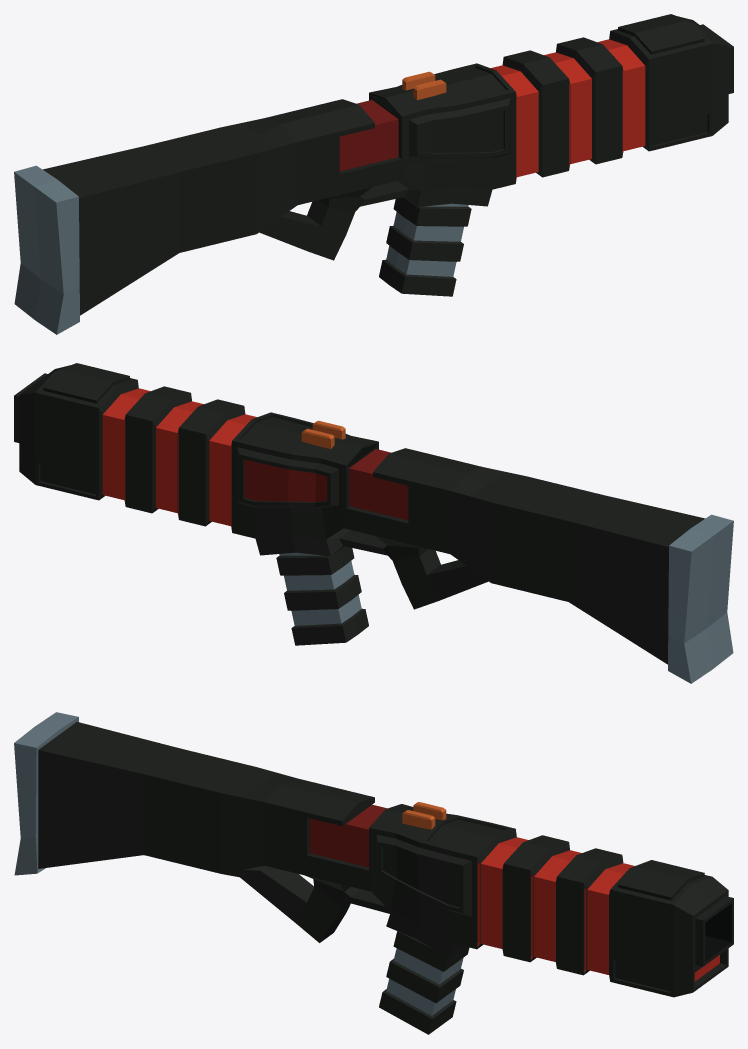
File: ShotgunA.fbx
3 renders of one model, top to bottom at view 1: azimuth 30°, elevation 25°; view 2: azimuth 150°, elevation 25°; view 3: azimuth 330°, elevation 25°, orthographic.
Visible parts, largest first — view 1: ShotgunA; view 2: ShotgunA; view 3: ShotgunA.
Boxes of the visible parts, x1,y1,x2,y2 form: ShotgunA: (14, 14, 733, 334); ShotgunA: (14, 363, 733, 683); ShotgunA: (14, 712, 733, 1034).
Size of the model in its own units: 0.8848 by 0.1018 by 0.2621.
